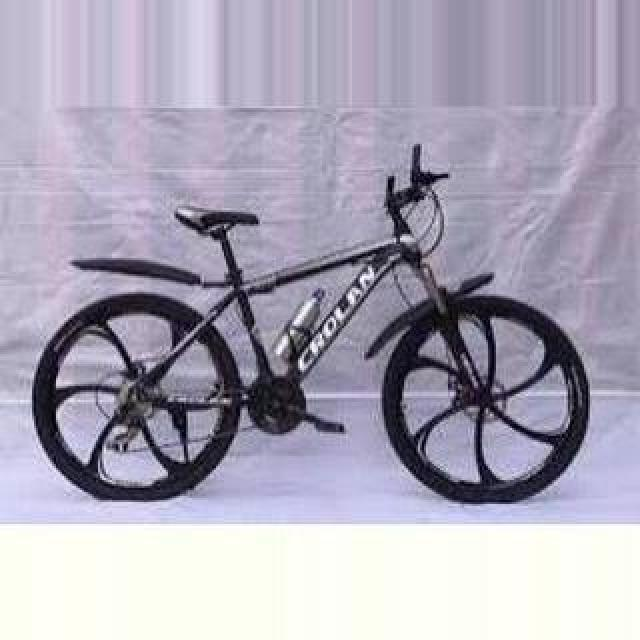Person: (28, 142, 596, 510)
